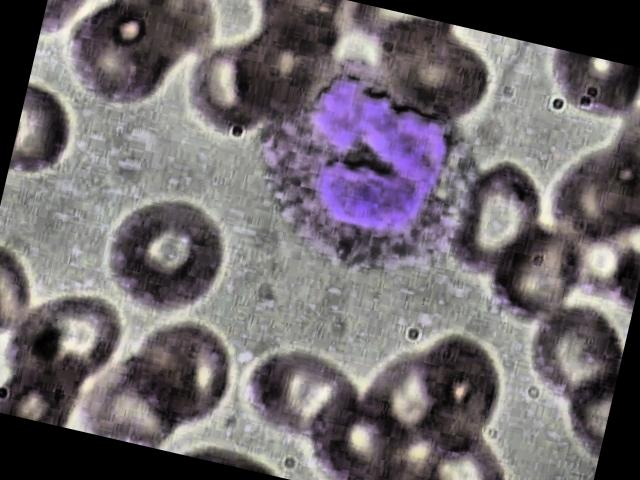RBC: (86, 182, 237, 322), (108, 304, 246, 440), (0, 280, 136, 416), (235, 343, 373, 455), (439, 156, 554, 290), (519, 296, 630, 412), (6, 84, 84, 189), (406, 422, 527, 480)
WBC: (229, 38, 506, 304)
